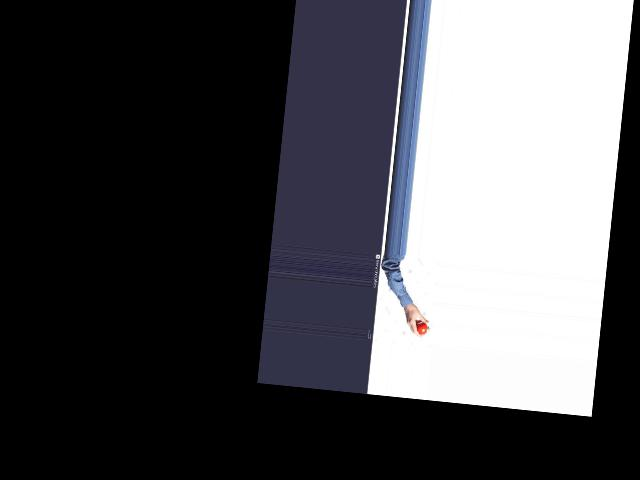tomato: (416, 322, 427, 335)
